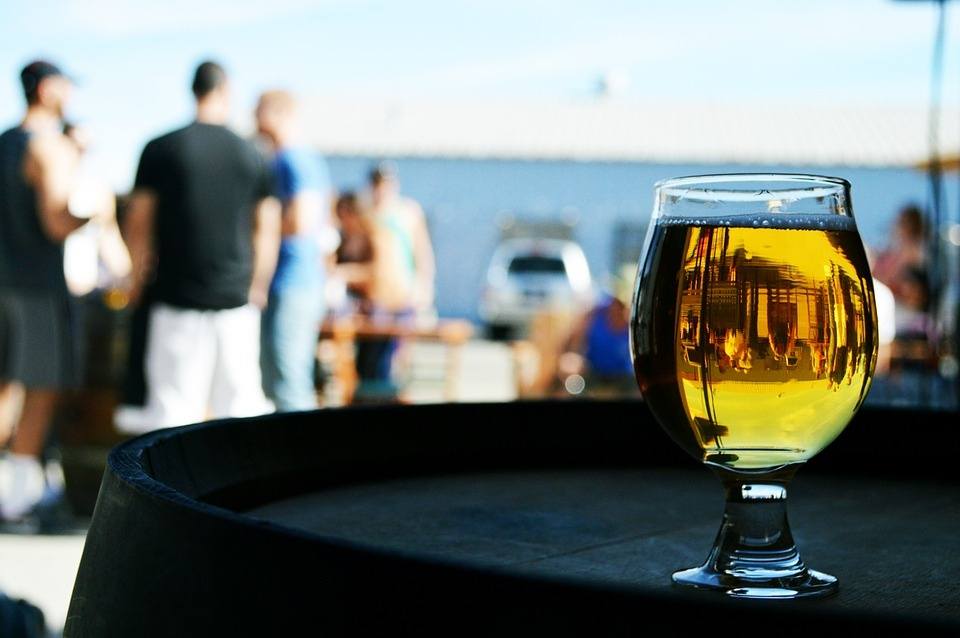glassBeer: (631, 163, 874, 521)
